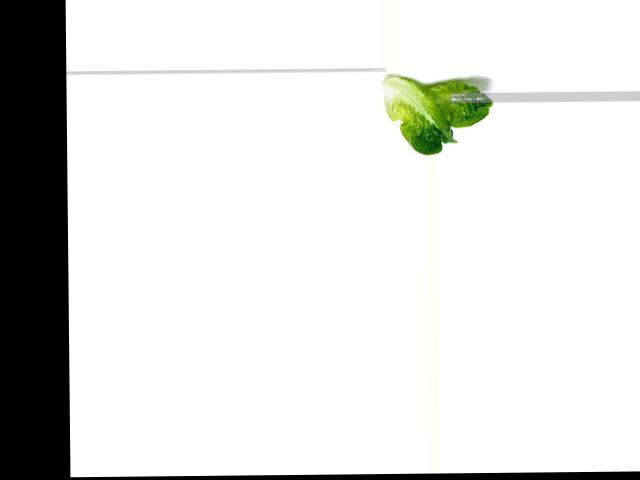lettuce: (379, 78, 496, 155)
